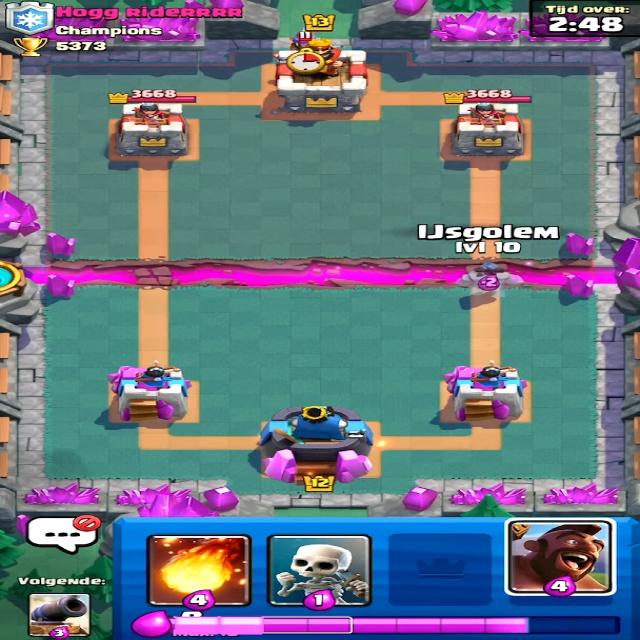Fireball_Card: (148, 534, 248, 606)
Hog_Rider_Card: (508, 516, 612, 596)
Skeleton_Card: (270, 535, 370, 604)
